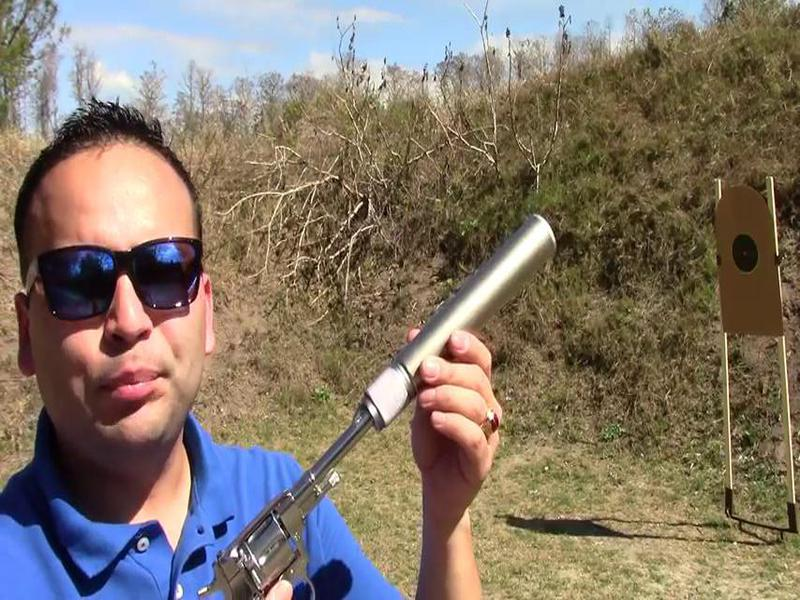Revolver: (172, 393, 384, 600)
